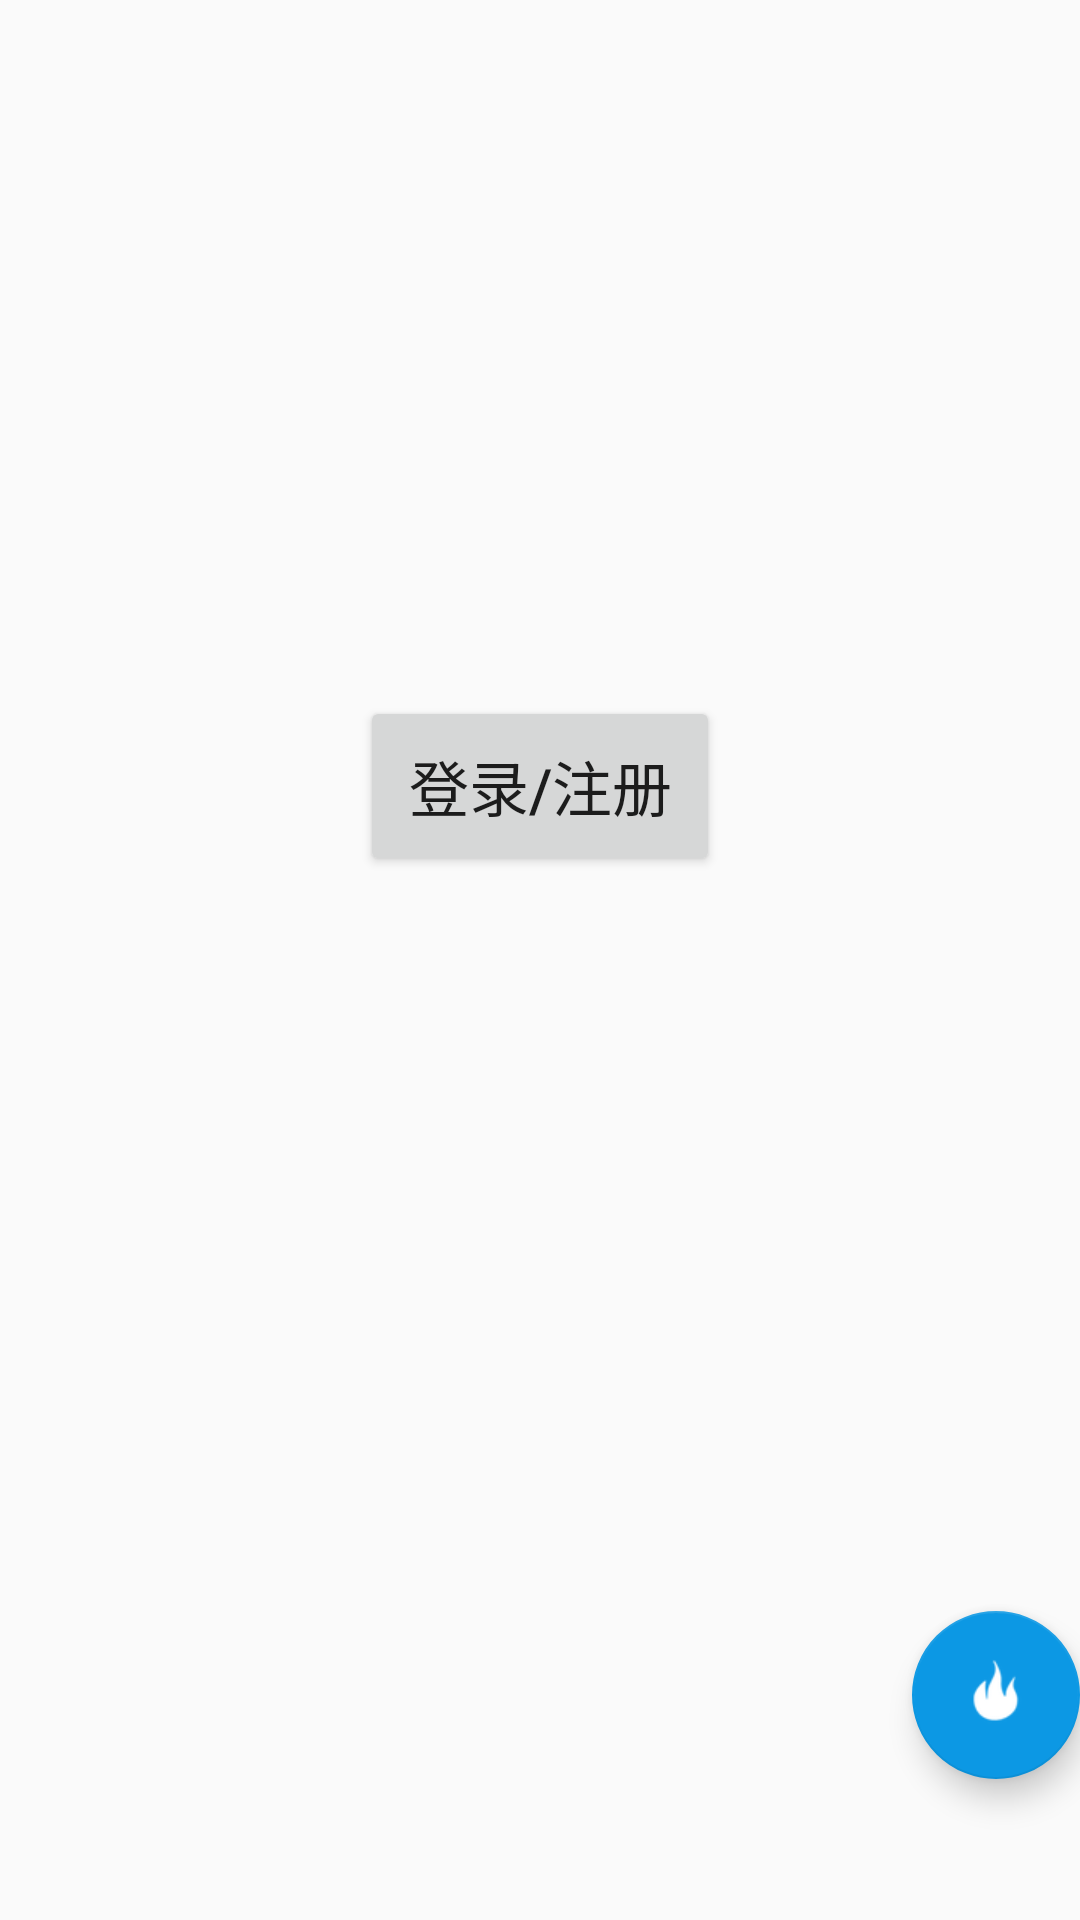

Icons on this 1080*1920 Android screen, each with its box as (x1, y1, x2, y2):
hot: (912, 1611, 1080, 1779)
